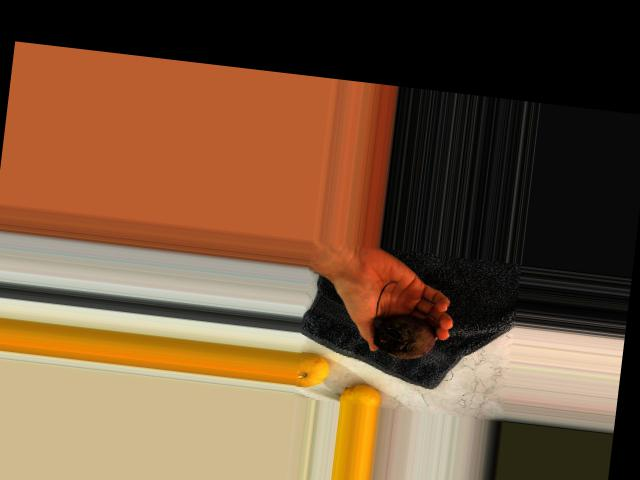beet: (373, 279, 443, 362)
